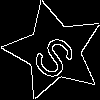S: (29, 26, 86, 83)
